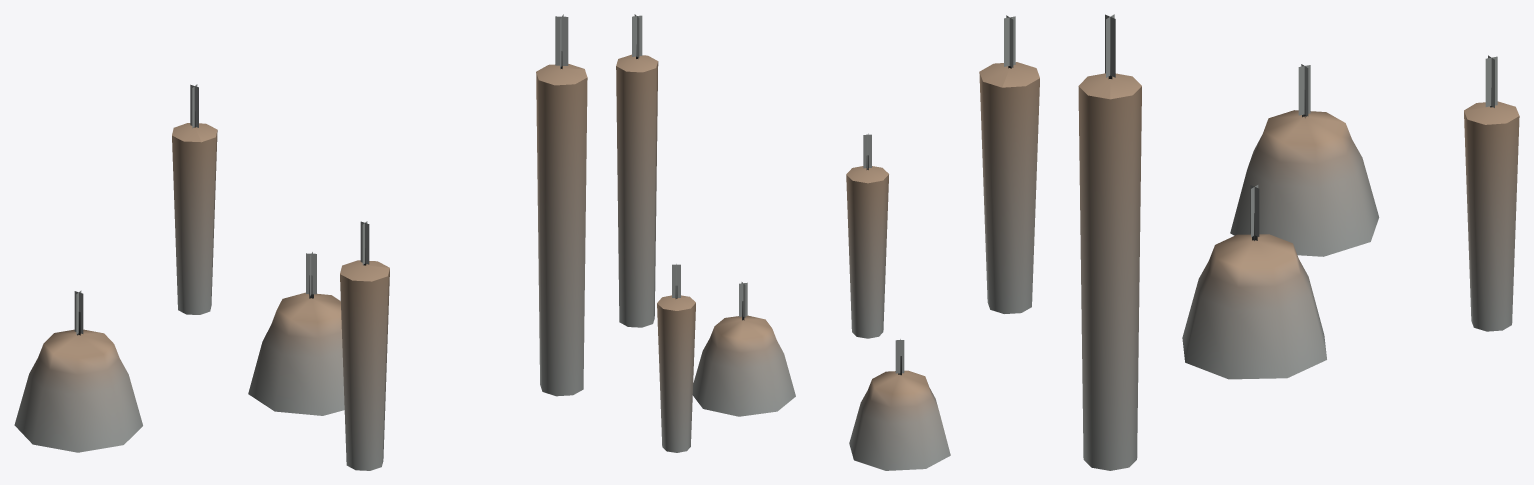
3 views of the same model, side by side, from view 1: azimuth 30°, elevation 25°; view 2: azimuth 150°, elevation 25°; view 3: azimuth 270°, elevation 25° (orthographic). The views are drawn at different scales.
Visible parts, largest first — view 1: G:\FFXIV-MapTools\exports\x6f1\bg\ex5\01_xkt_x6\fld\x6f1\bgp (×2); view 2: G:\FFXIV-MapTools\exports\x6f1\bg\ex5\01_xkt_x6\fld\x6f1\bgp (×2); view 3: G:\FFXIV-MapTools\exports\x6f1\bg\ex5\01_xkt_x6\fld\x6f1\bgp (×2).
Boxes of the visible parts, left/top/right/bottom form: G:\FFXIV-MapTools\exports\x6f1\bg\ex5\01_xkt_x6\fld\x6f1\bgp (×2): left=14, top=14, right=587, bottom=470; G:\FFXIV-MapTools\exports\x6f1\bg\ex5\01_xkt_x6\fld\x6f1\bgp (×2): left=616, top=14, right=950, bottom=470; G:\FFXIV-MapTools\exports\x6f1\bg\ex5\01_xkt_x6\fld\x6f1\bgp (×2): left=979, top=14, right=1519, bottom=470.
Size of the model in its own units: 1.12 by 0.831 by 0.9185.
